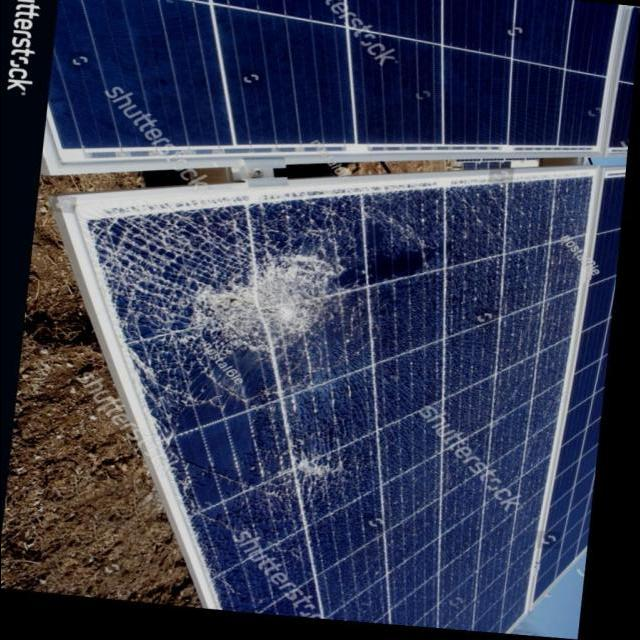cracked: (62, 167, 598, 631)
